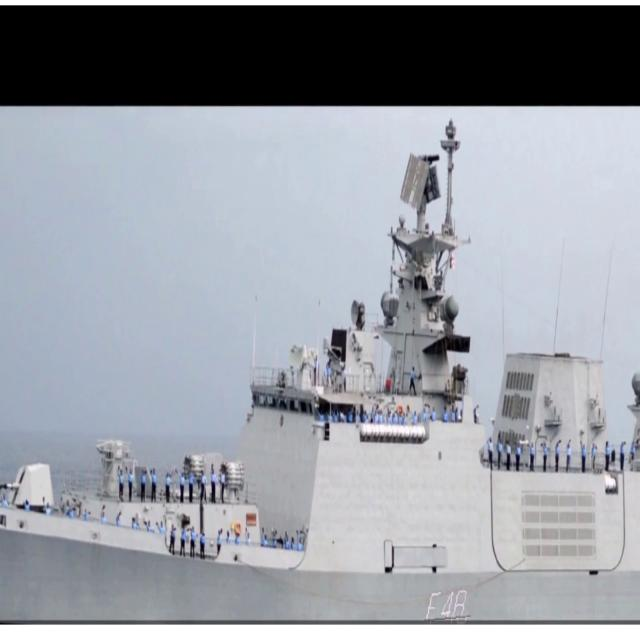OCR: (423, 585, 475, 622)
